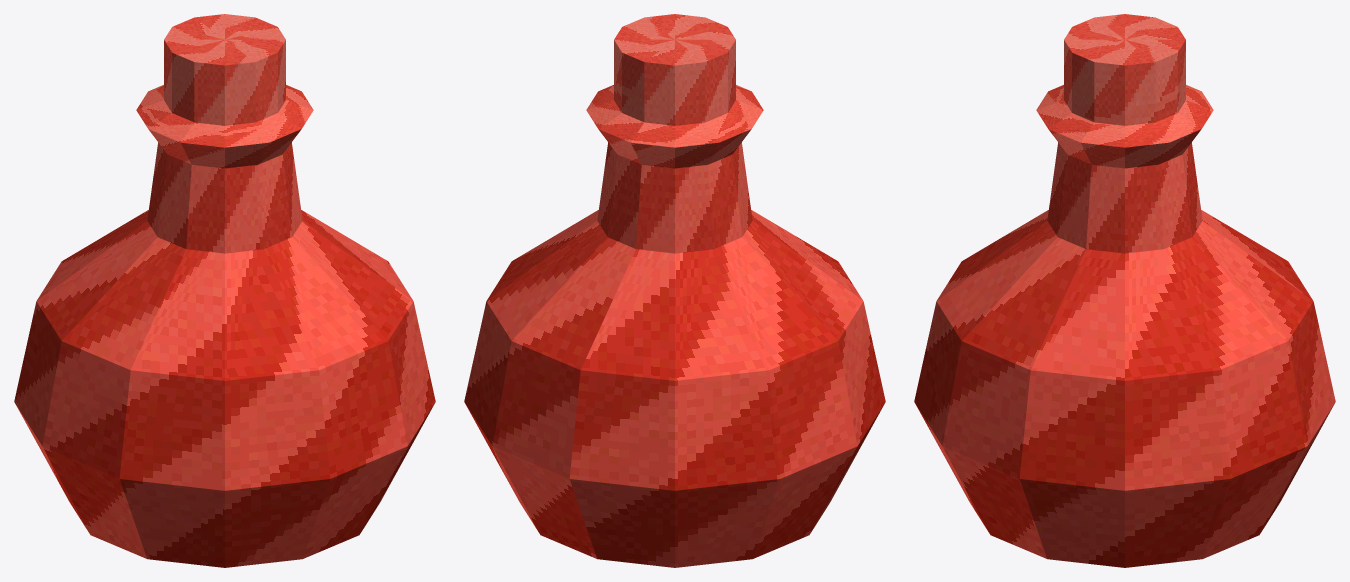
Rendered from extrato_de_pimenta.glb.
3 renders of one model, left to right at view 1: azimuth 30°, elevation 25°; view 2: azimuth 150°, elevation 25°; view 3: azimuth 270°, elevation 25°, orthographic.
Parts seen in each view (by area): view 1: extrato_de_pimenta; view 2: extrato_de_pimenta; view 3: extrato_de_pimenta.
Part boxes in pixels (left/top/right/bottom): extrato_de_pimenta: left=14, top=14, right=435, bottom=567; extrato_de_pimenta: left=464, top=14, right=885, bottom=567; extrato_de_pimenta: left=914, top=14, right=1335, bottom=567.
Size of the model in its own units: 0.1824 by 0.2304 by 0.1824.
Materials: 1 (1 with a texture image).
